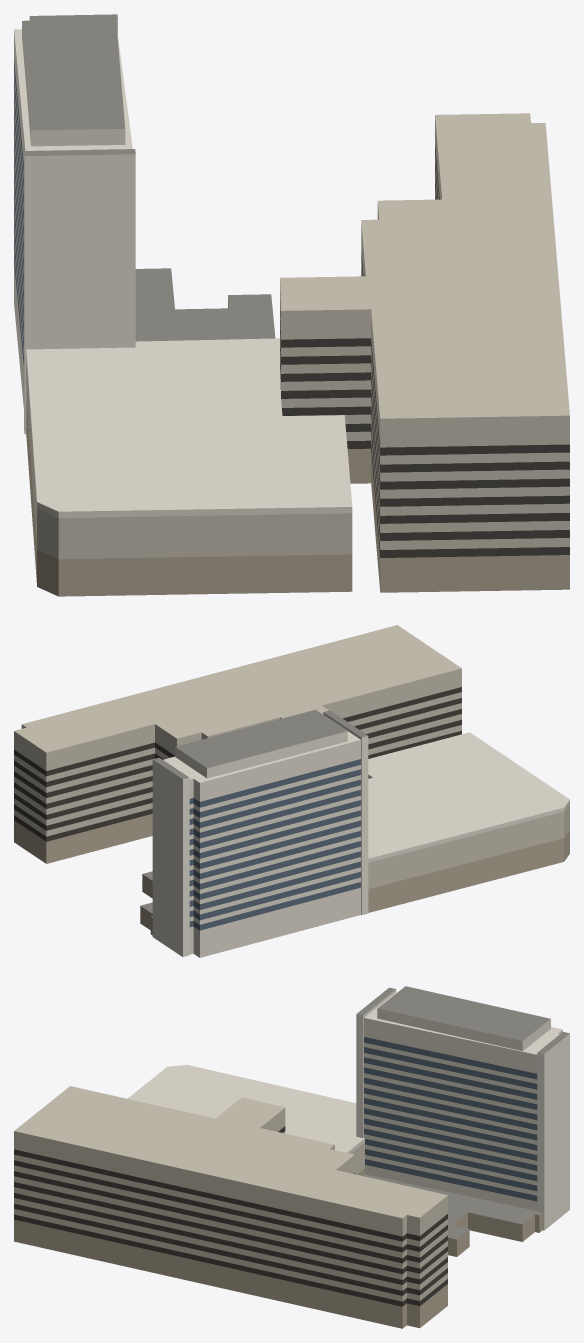
File: downtown_grand_w206128520.glb
3 renders of one model, top to bottom at view 1: azimuth 30°, elevation 25°; view 2: azimuth 150°, elevation 25°; view 3: azimuth 270°, elevation 25°, orthographic. The views are drawn at different scales.
Visible parts, largest first — view 1: Tower_w206128520; view 2: Tower_w206128520; view 3: Tower_w206128520.
Part boxes in pixels (<box>): Tower_w206128520: <box>14,14,569,596</box>; Tower_w206128520: <box>14,625,569,957</box>; Tower_w206128520: <box>14,986,569,1328</box>.
Size of the model in its own units: 133 by 54.3 by 149.
